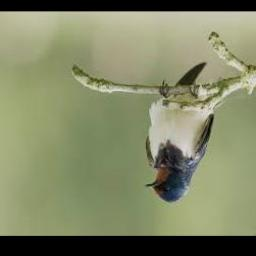Swallow: (144, 62, 213, 203)
